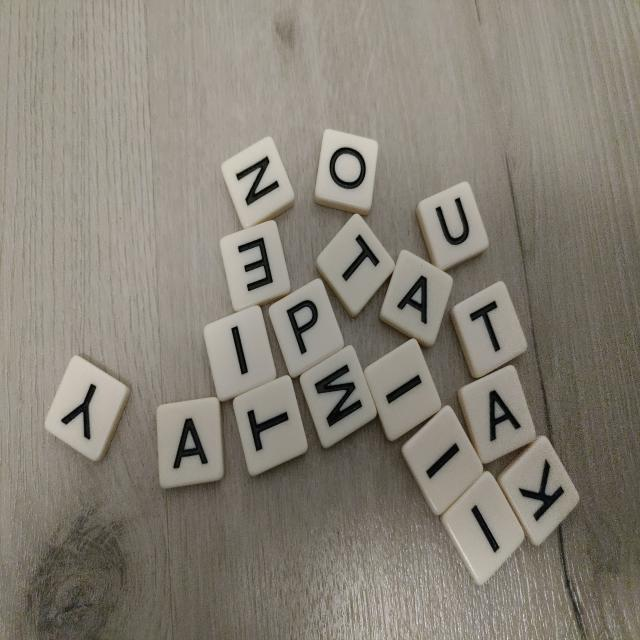a: (457, 363, 539, 467), (377, 247, 455, 350), (155, 394, 225, 488)
e: (219, 219, 292, 314)
i: (439, 467, 527, 590), (398, 403, 486, 519), (362, 336, 443, 443), (202, 303, 278, 404)
k: (497, 431, 582, 550)
m: (298, 344, 379, 451)
n: (219, 134, 297, 232)
o: (313, 128, 379, 217)
p: (267, 276, 345, 379)
t: (313, 211, 397, 320), (233, 372, 311, 479), (448, 279, 529, 382)
u: (414, 179, 492, 276)
y: (42, 352, 132, 467)
